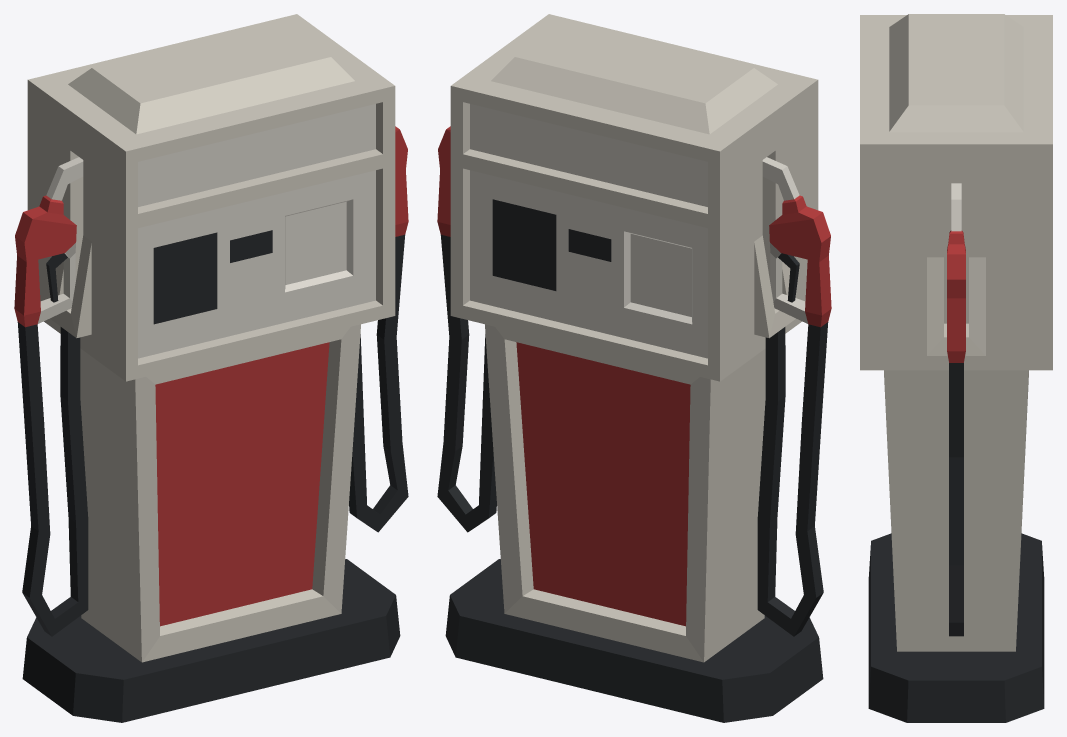
The model's file is syn-pump.glb.
3 views of the same model, side by side, from view 1: azimuth 30°, elevation 25°; view 2: azimuth 150°, elevation 25°; view 3: azimuth 270°, elevation 25° (orthographic).
Visible parts, largest first — view 1: SM_Prop_Gaspump_01; view 2: SM_Prop_Gaspump_01; view 3: SM_Prop_Gaspump_01.
Part boxes in pixels (x1,y1,x2,y2): SM_Prop_Gaspump_01: (14, 14, 408, 722); SM_Prop_Gaspump_01: (437, 14, 831, 722); SM_Prop_Gaspump_01: (860, 14, 1052, 722).
Bounding box in the file's own units: 1.45 × 2.14 × 0.6399.
